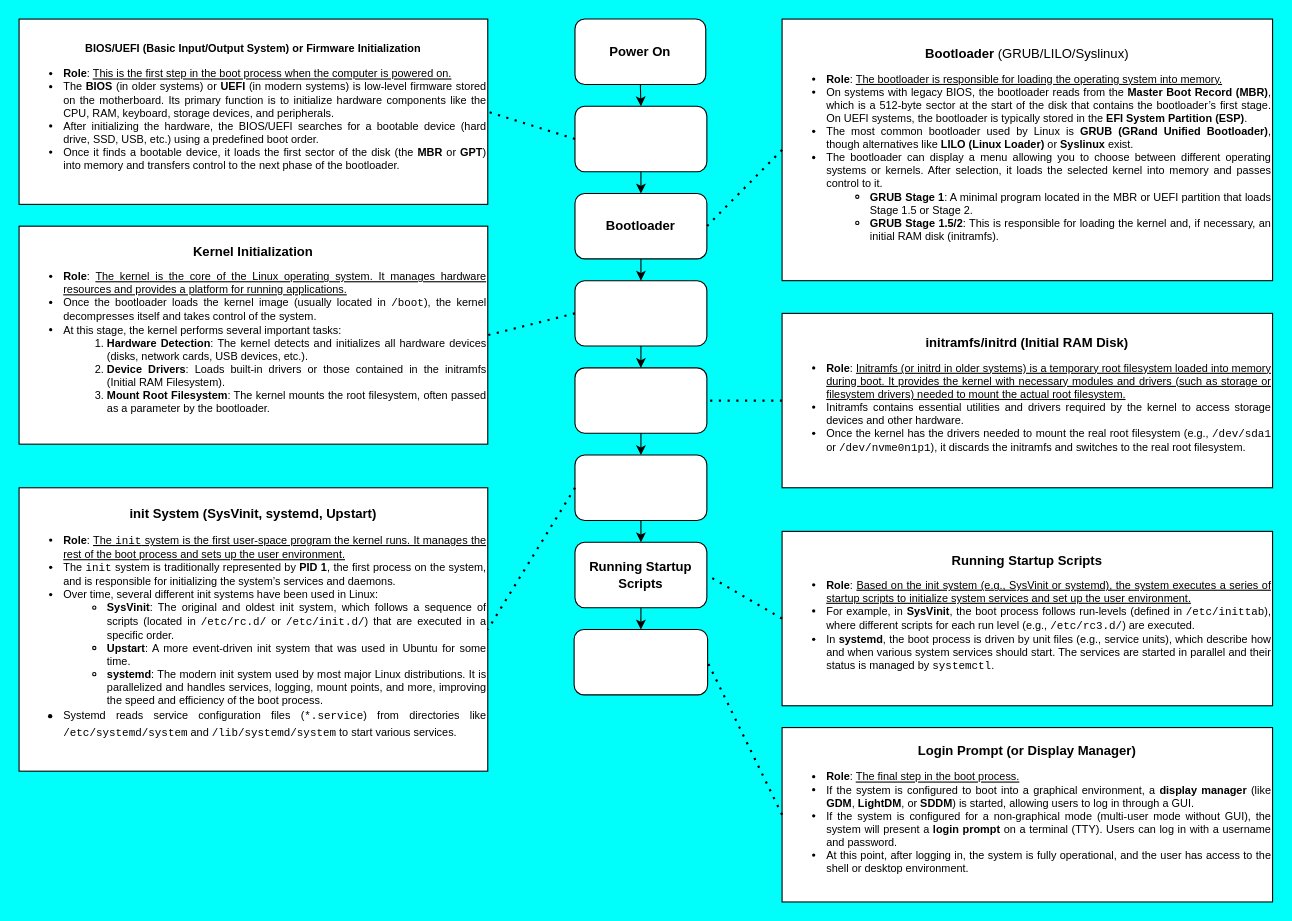
Some shapes in this 1292 by 921 pixel diagram are drawn without their labels. The shapes that lost their labels are listed below. From the top down, each one's centre as x and y in pixels, then its label:
point 640,138: BIOS
point 640,313: Kernel (Linux Os)
point 640,400: Initial RAM Disk (initrams image)
point 640,487: init System
point 640,661: Login Prompt (or Display Manager)
